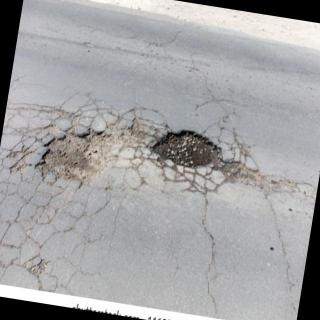pothole: (154, 130, 262, 186), (40, 131, 112, 184)
